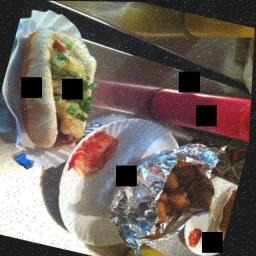hotdog: (0, 7, 122, 169)
